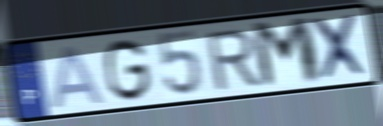5: (155, 27, 205, 101)
A: (49, 43, 108, 111)
G: (103, 37, 154, 104)
M: (248, 14, 326, 92)
R: (204, 27, 263, 93)
X: (307, 12, 372, 84)
